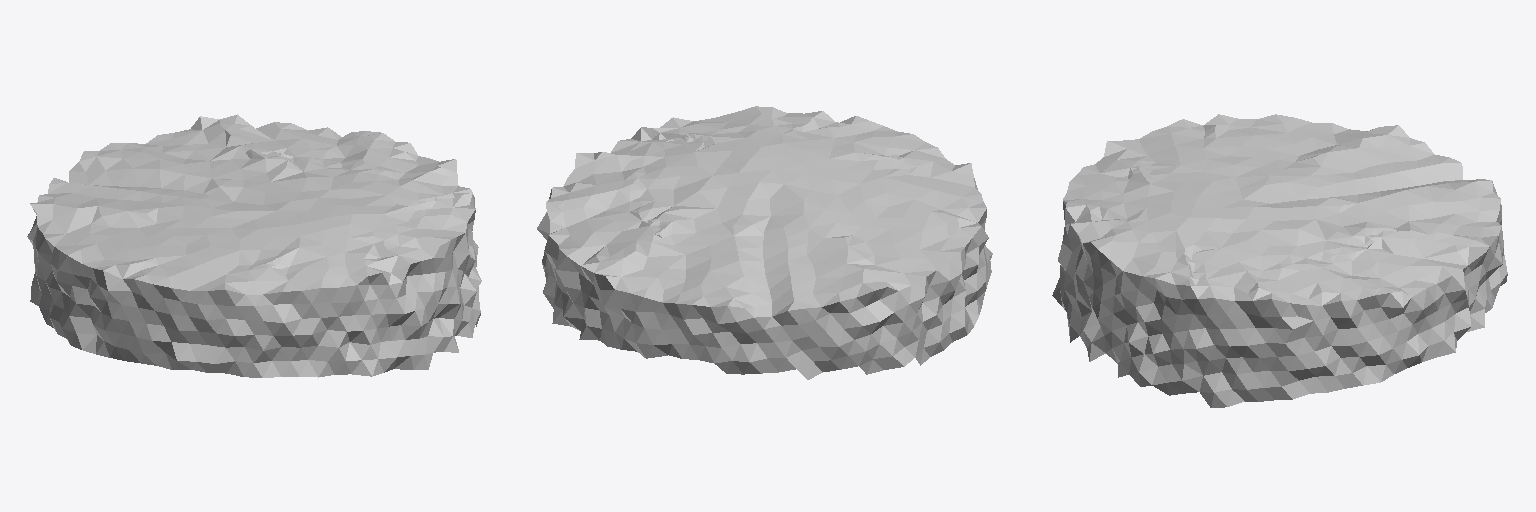
File: new_bad_shaped_mesh.obj
The picture shows the model from 3 angles: view 1: azimuth 30°, elevation 25°; view 2: azimuth 150°, elevation 25°; view 3: azimuth 270°, elevation 25°; orthographic projection.
Size of the model in its own units: 14.5 by 4.47 by 14.58.